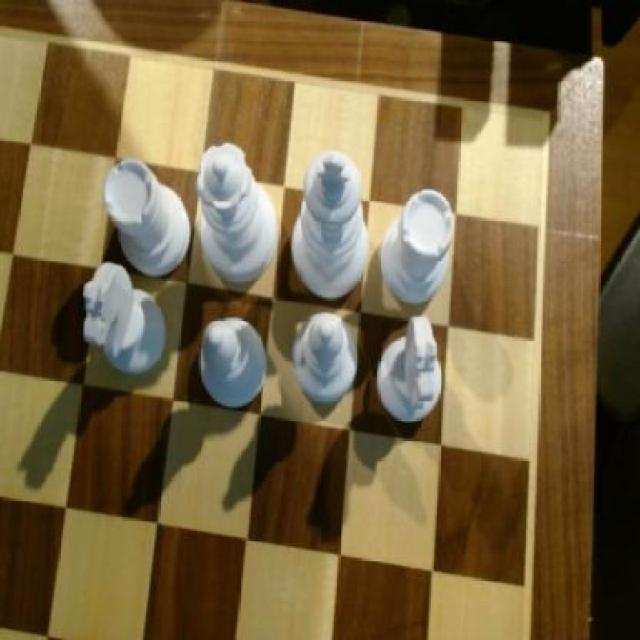black-rook: (198, 315, 271, 408)
white-bishop: (291, 151, 373, 294)
white-king: (81, 262, 170, 378), (380, 312, 449, 427), (292, 311, 364, 403)
white-pawn: (199, 140, 283, 288)
white-queen: (103, 162, 195, 278), (380, 192, 458, 306)
